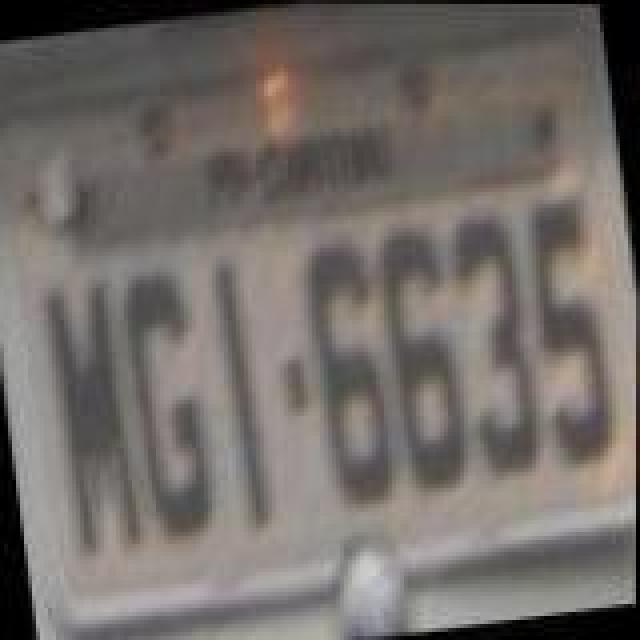1: (218, 260, 274, 528)
3: (444, 208, 544, 484)
5: (516, 194, 616, 470)
6: (372, 218, 472, 490), (302, 238, 398, 510)
G: (116, 266, 216, 542)
M: (44, 280, 144, 568)
